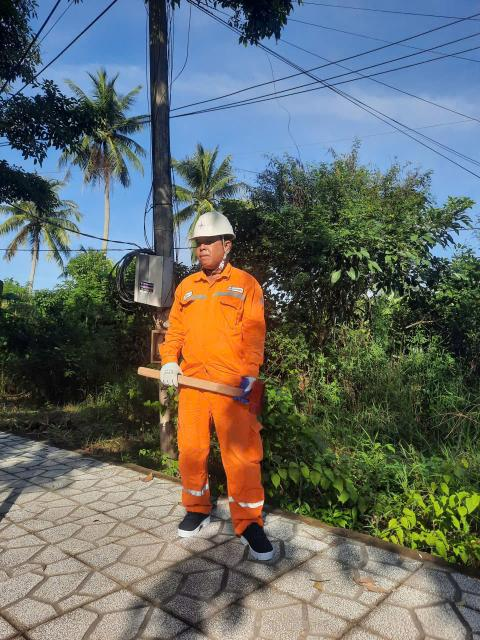gloves: (229, 371, 261, 408), (156, 358, 182, 394)
helmet: (186, 206, 238, 248)
shoes: (228, 523, 282, 567), (175, 506, 213, 538)
